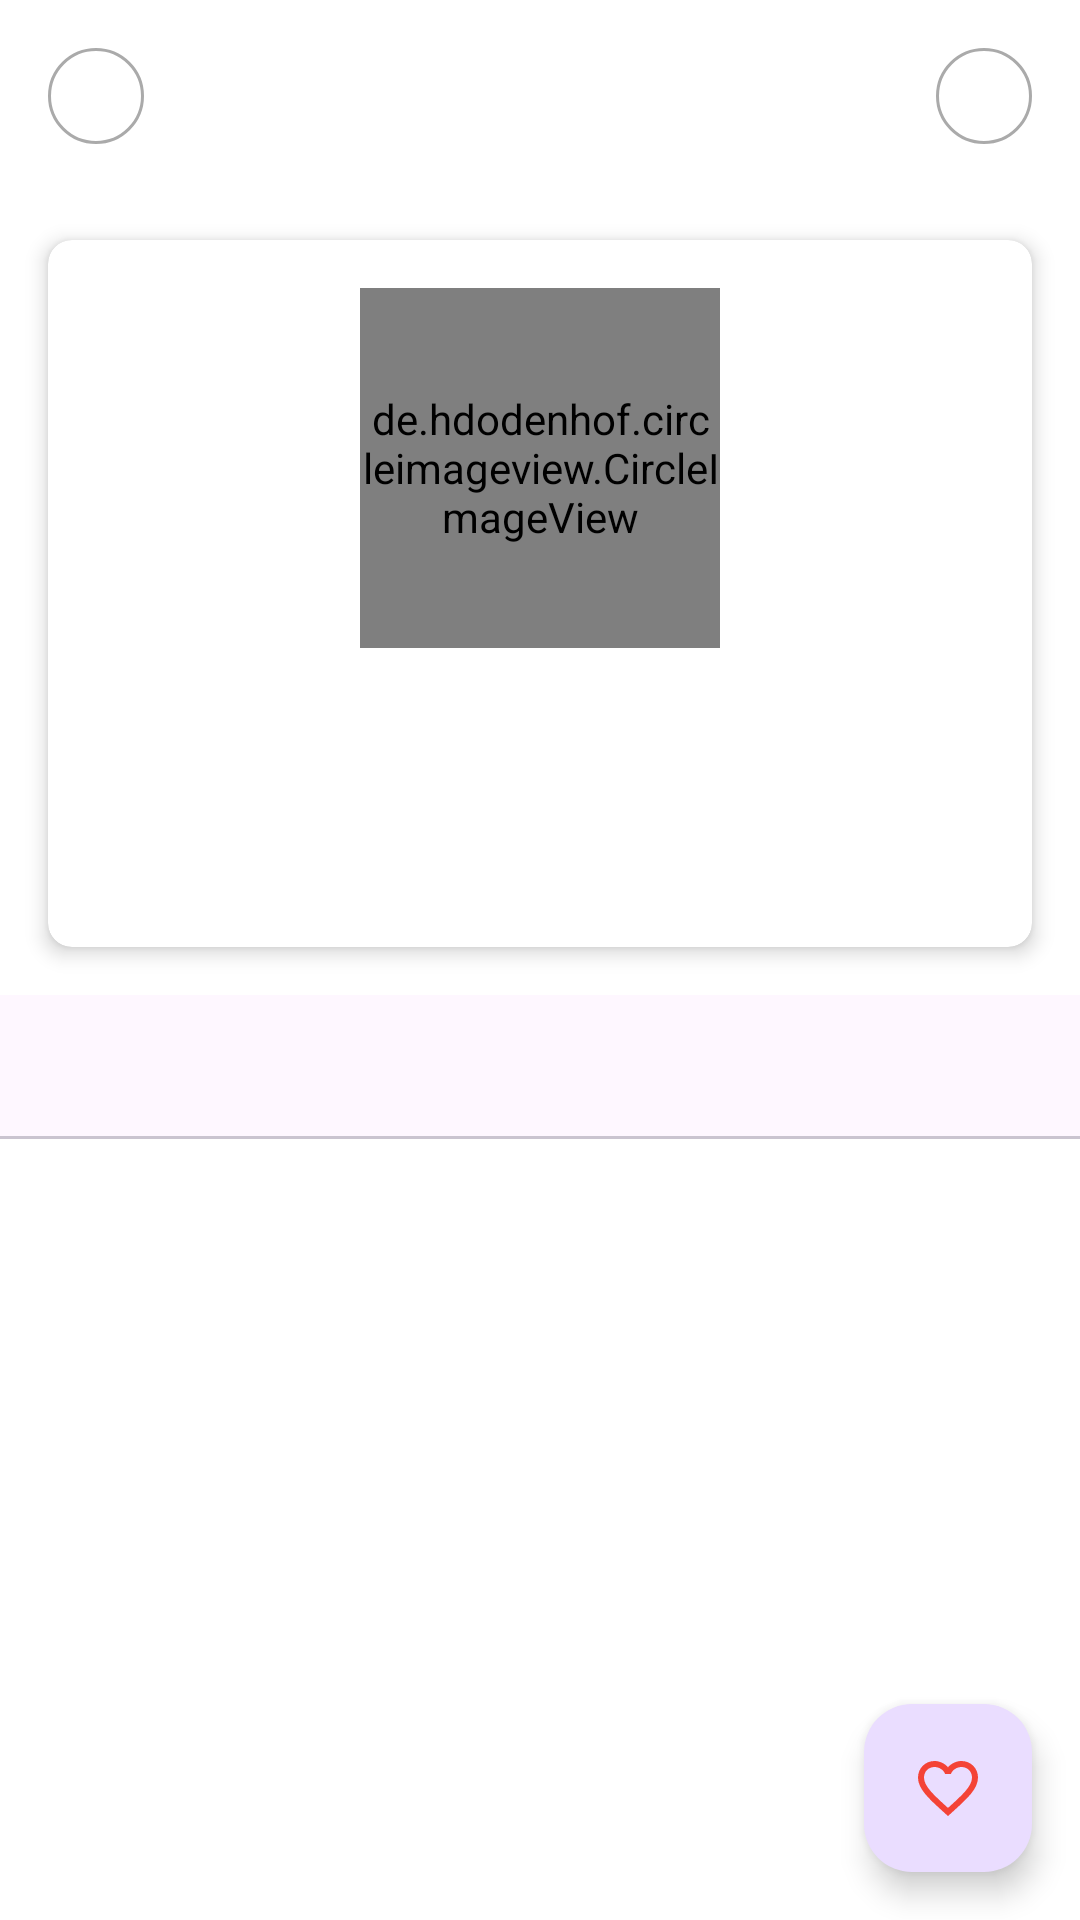

Screen size 1080px x 1920px. Icon name, then its center in pixels as (x=x, y=y):
favorite: (x=948, y=1788)
